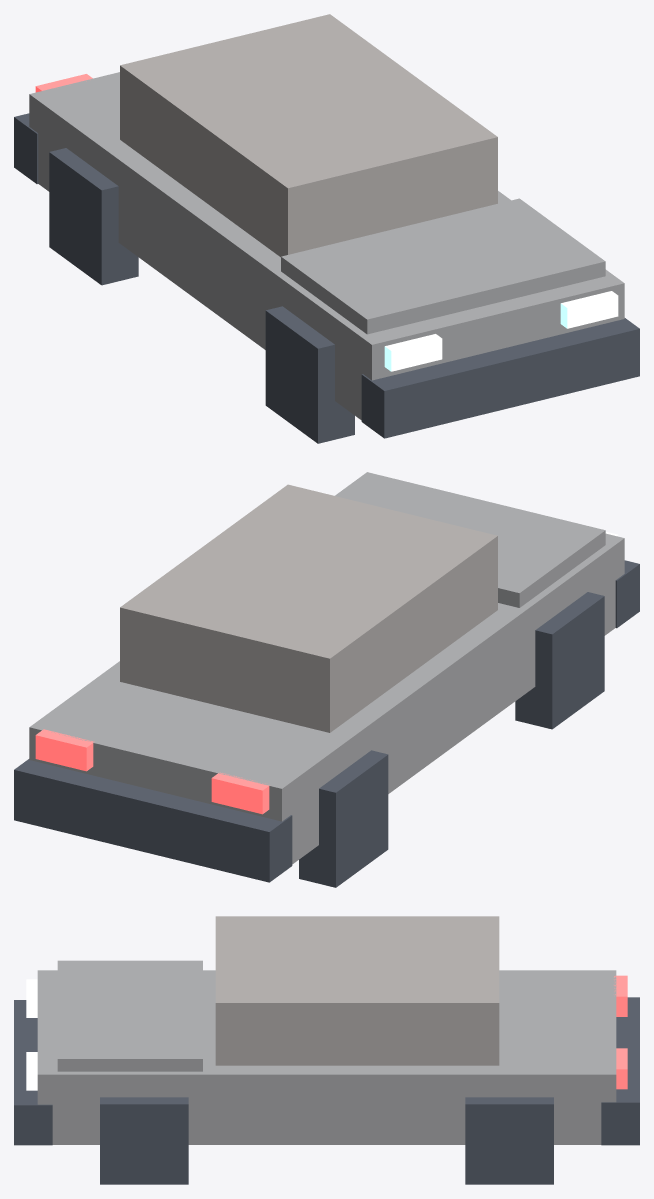
The model's file is approx_volkswagen_golf-iv_wo-v1-fluxo-01_v1_1794147616828.glb.
3 renders of one model, top to bottom at view 1: azimuth 30°, elevation 25°; view 2: azimuth 150°, elevation 25°; view 3: azimuth 270°, elevation 25°, orthographic. The views are drawn at different scales.
Parts seen in each view (by area): view 1: veiculo_aproximado_volkswagen_golf-iv; view 2: veiculo_aproximado_volkswagen_golf-iv; view 3: veiculo_aproximado_volkswagen_golf-iv.
Boxes of the visible parts, <box> form: veiculo_aproximado_volkswagen_golf-iv: <box>14,14,639,443</box>; veiculo_aproximado_volkswagen_golf-iv: <box>14,472,639,887</box>; veiculo_aproximado_volkswagen_golf-iv: <box>14,916,639,1184</box>.
Bounding box in the file's own units: 2.02 × 1.32 × 4.52.
